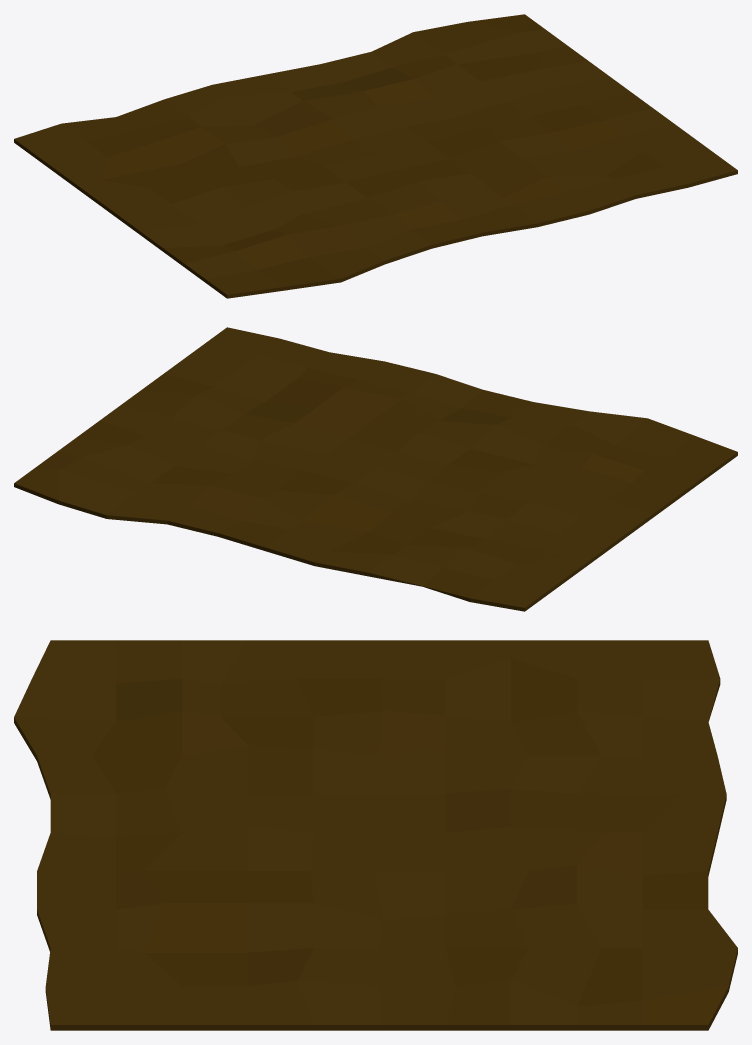
The model's file is DirtPath_Middle.fbx.
3 views of the same model, one above another, from view 1: azimuth 30°, elevation 25°; view 2: azimuth 150°, elevation 25°; view 3: azimuth 270°, elevation 25° (orthographic). The views are drawn at different scales.
Visible parts, largest first — view 1: pCube1; view 2: pCube1; view 3: pCube1.
Boxes of the visible parts, x1=… form: pCube1: x1=14, y1=14, x2=737, y2=298; pCube1: x1=14, y1=327, x2=737, y2=611; pCube1: x1=14, y1=640, x2=737, y2=1030.
Size of the model in its own units: 16.91 by 0.2429 by 13.45.
